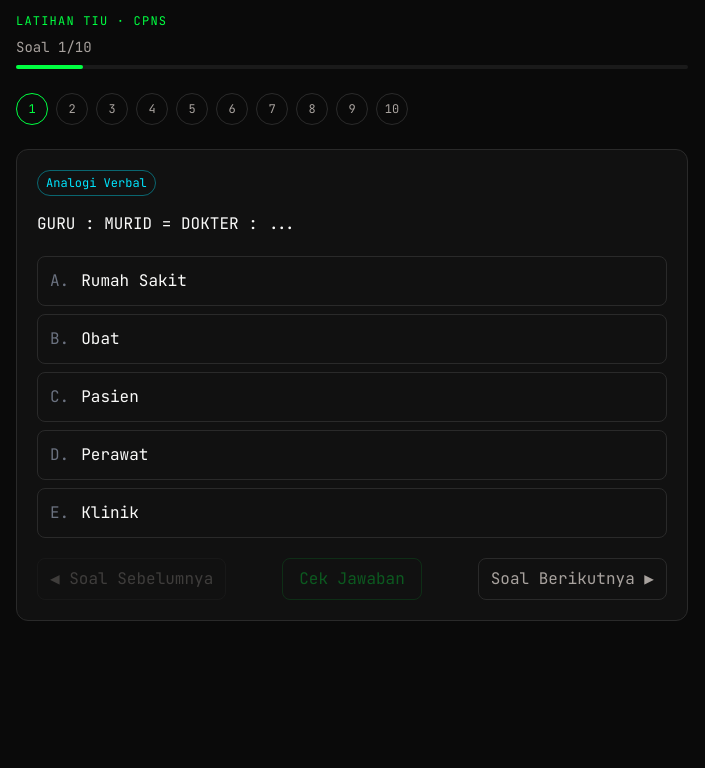
Test: LatihanCpnsTiu › enables Cek Jawaban after selecting an option and reveals feedback on click
This screenshot has width=705, height=768.
Expected: the button "Cek Jawaban" is disabled, [282,558,422,600]
Click the text "Pasien": click(110, 397) [81,385,139,409]
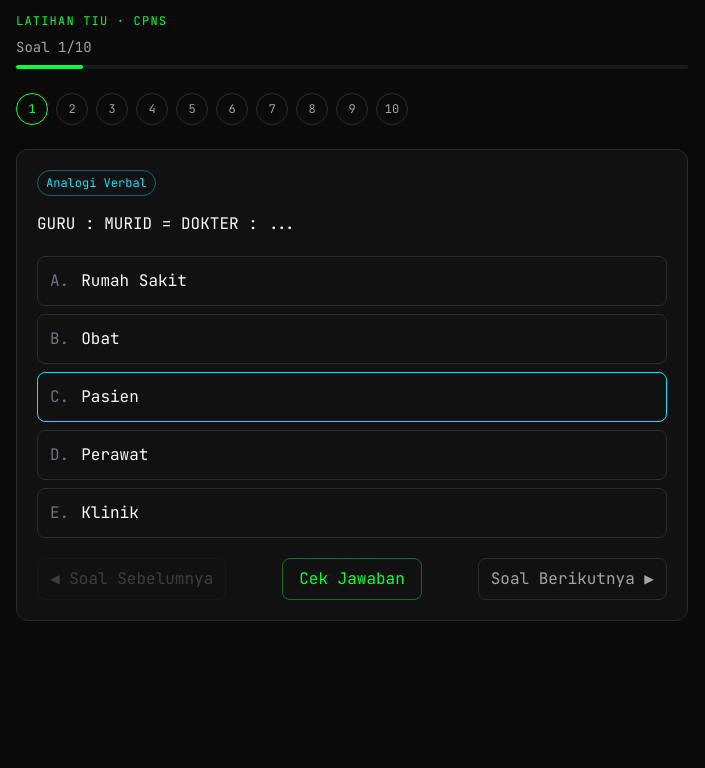
Expected: the button "Cek Jawaban" is enabled
Click the button "Cek Jawaban": click(352, 579) [282,558,422,600]
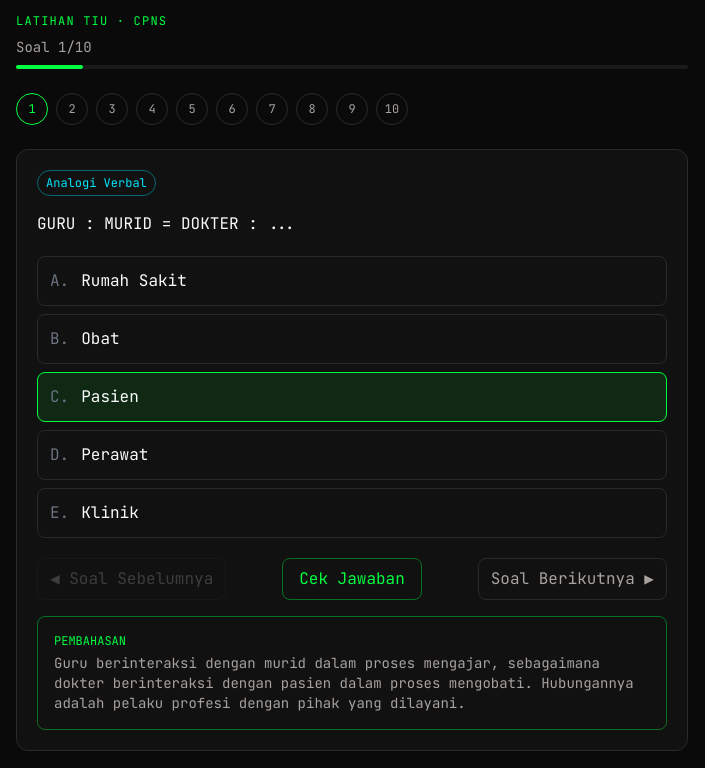
Expected: the text "Guru berinteraksi dengan murid" is shown, [54,654,634,712]
